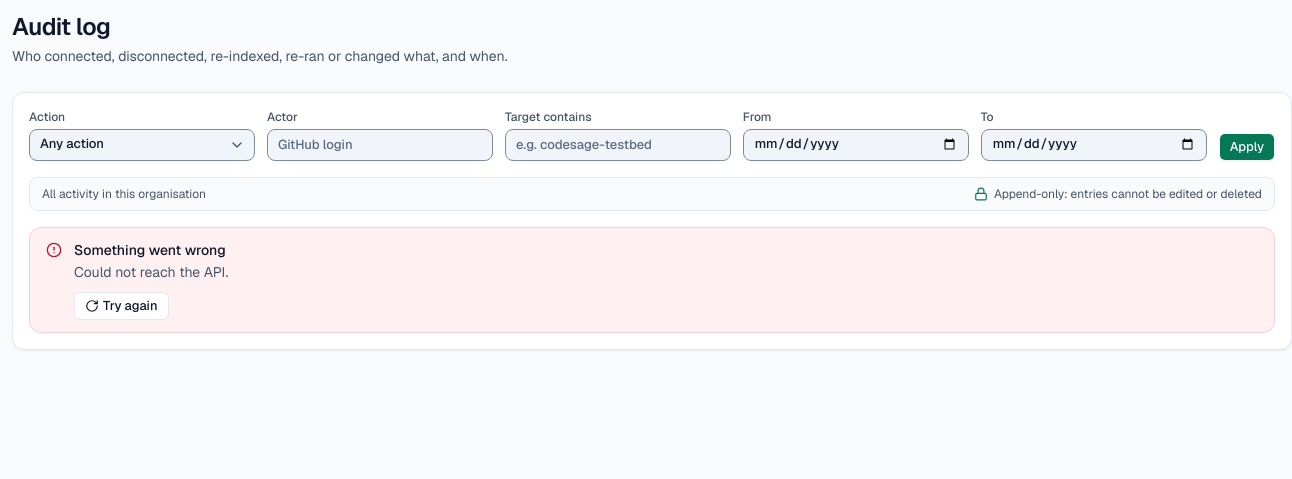
Test: audit log › other failures are errors with a retry
Click the button "Try again" at (121, 306), box [74,292,168,320]
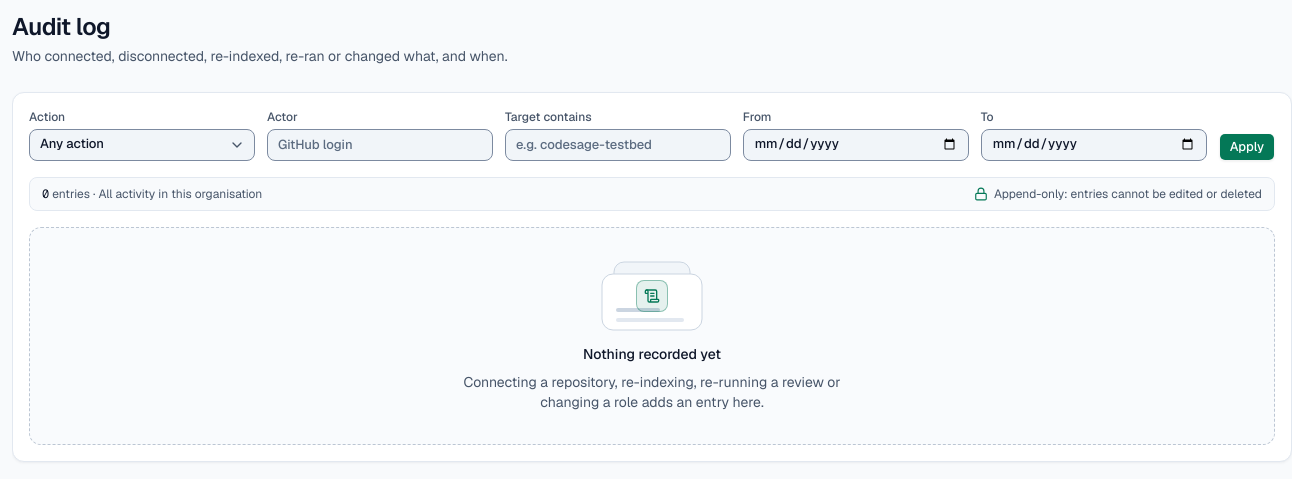
Now the text "Nothing recorded yet" is shown, box [583,344,721,364]
